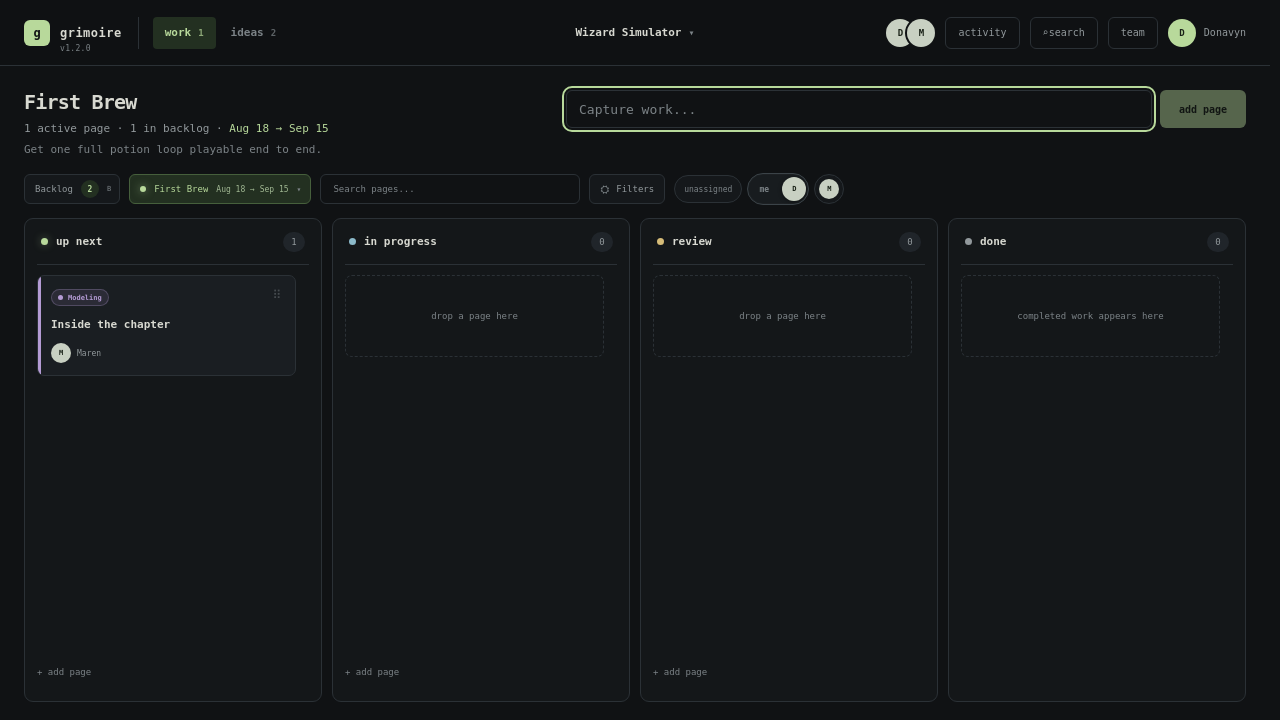
chapters on the board › folds the finished chapters away and opens them on request
The width and height of the screenshot is (1280, 720).
Click the button with aria-label "Filter by chapter".
click(220, 189)  # box [129,174,312,204]
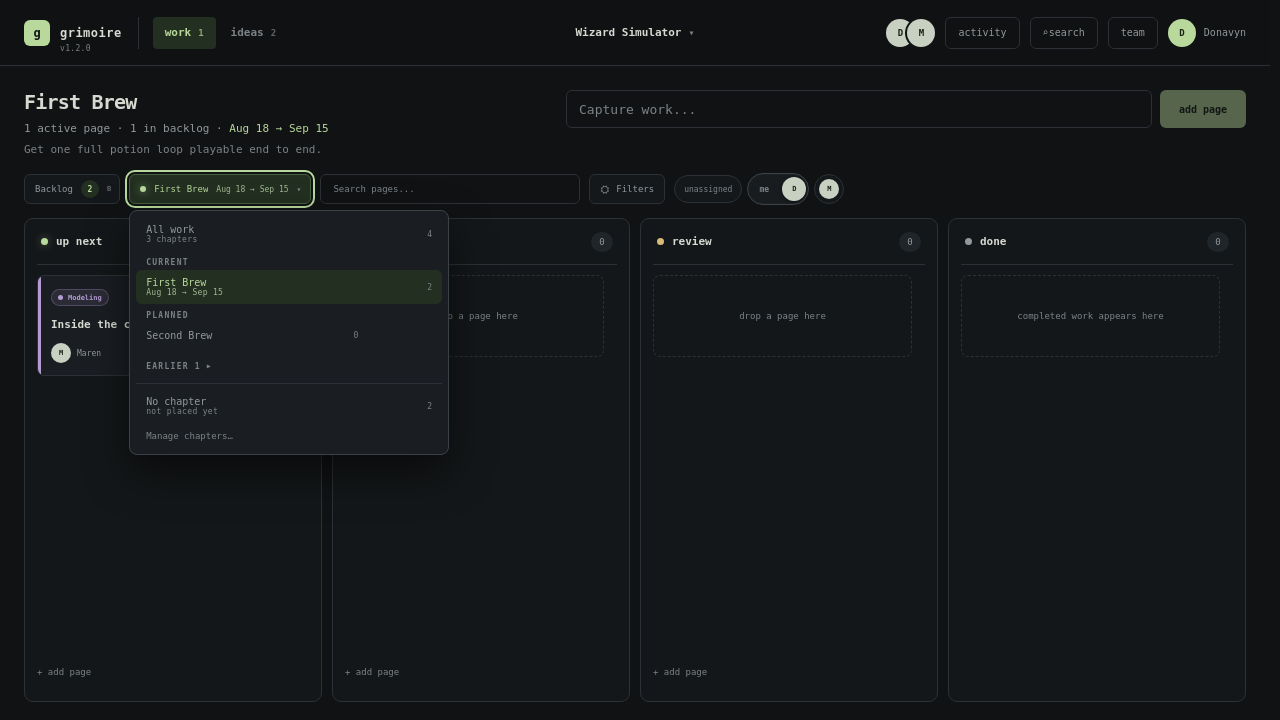
Expected: the menu item "Old Brew" is not shown
Now the menu item "Second Brew 0" is shown, box [136,323,368,348]
Now the button "earlier 1 ▸" is shown
Click the button "earlier 1 ▸".
click(168, 366)  # box [136,355,442,375]
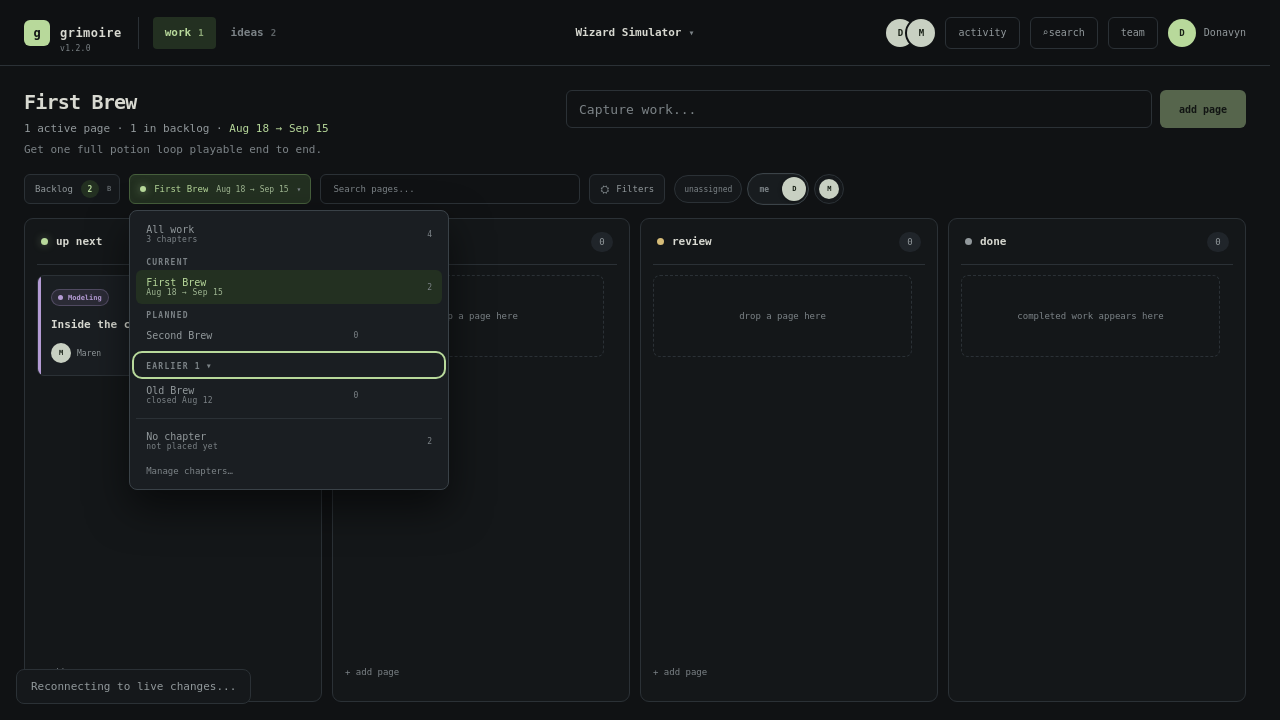
Now the menu item "Old Brew closed Aug 12 0" is shown, box [136,378,368,412]
